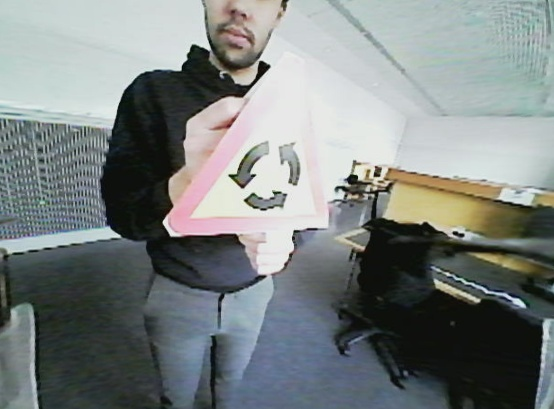roundabout_warning: (159, 52, 333, 239)
